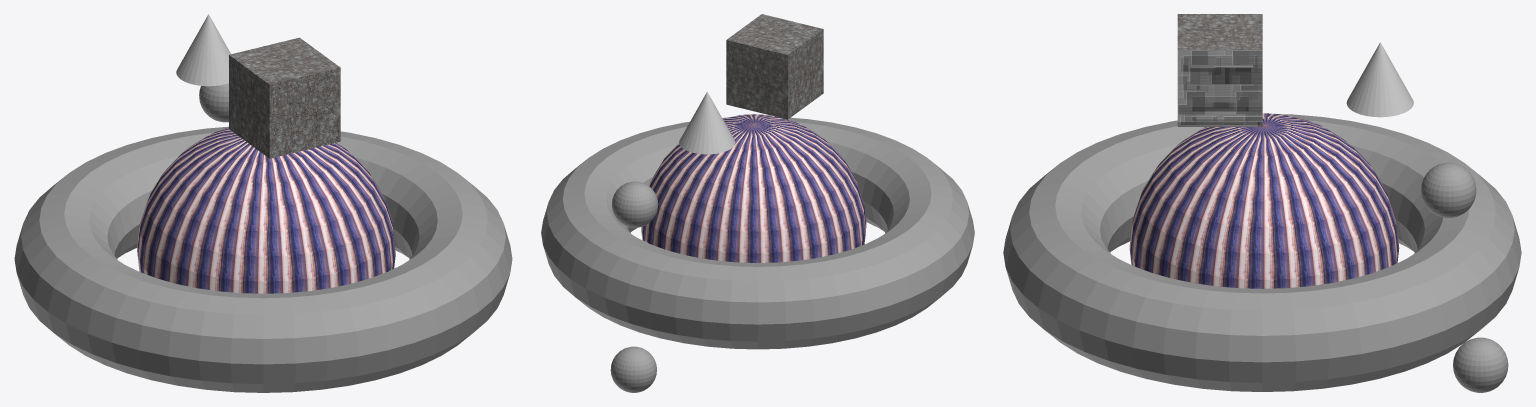
The model's file is planet.obj.
The picture shows the model from 3 angles, left to right: view 1: azimuth 30°, elevation 25°; view 2: azimuth 150°, elevation 25°; view 3: azimuth 270°, elevation 25°; orthographic projection. The views are drawn at different scales.
Visible parts, largest first — view 1: Ring_PlanetRing, Planet_Sphere, Spaceship_Cube, UFO_Cone, Phobos_Moon1; view 2: Ring_PlanetRing, Planet_Sphere, Spaceship_Cube, UFO_Cone, Phobos_Moon1, Deimios_Moon2; view 3: Ring_PlanetRing, Planet_Sphere, Spaceship_Cube, UFO_Cone, Phobos_Moon1, Deimios_Moon2.
Part boxes in pixels (x1,y1,x2,y2): Ring_PlanetRing: [14, 126, 512, 392]; Planet_Sphere: [137, 127, 395, 293]; Spaceship_Cube: [229, 37, 340, 158]; UFO_Cone: [176, 14, 230, 86]; Phobos_Moon1: [199, 83, 228, 122]; Ring_PlanetRing: [541, 117, 974, 349]; Planet_Sphere: [641, 114, 866, 262]; Spaceship_Cube: [726, 14, 823, 119]; UFO_Cone: [679, 92, 735, 154]; Phobos_Moon1: [612, 181, 658, 227]; Deimios_Moon2: [610, 346, 656, 392]; Ring_PlanetRing: [1003, 114, 1521, 391]; Planet_Sphere: [1129, 113, 1399, 288]; Spaceship_Cube: [1177, 14, 1262, 126]; UFO_Cone: [1346, 42, 1413, 117]; Phobos_Moon1: [1421, 162, 1476, 217]; Deimios_Moon2: [1453, 337, 1508, 392].
Size of the model in its own units: 3.84 by 2.78 by 3.84.
